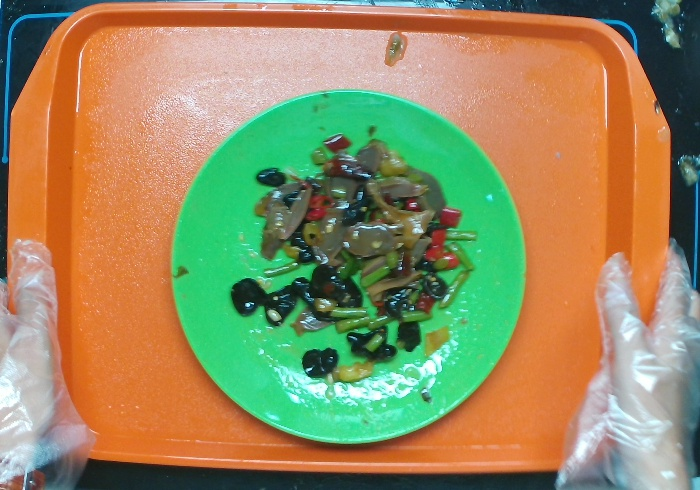HZYJPL-Lv_Se_Yuan_Pan: (165, 83, 531, 448)
